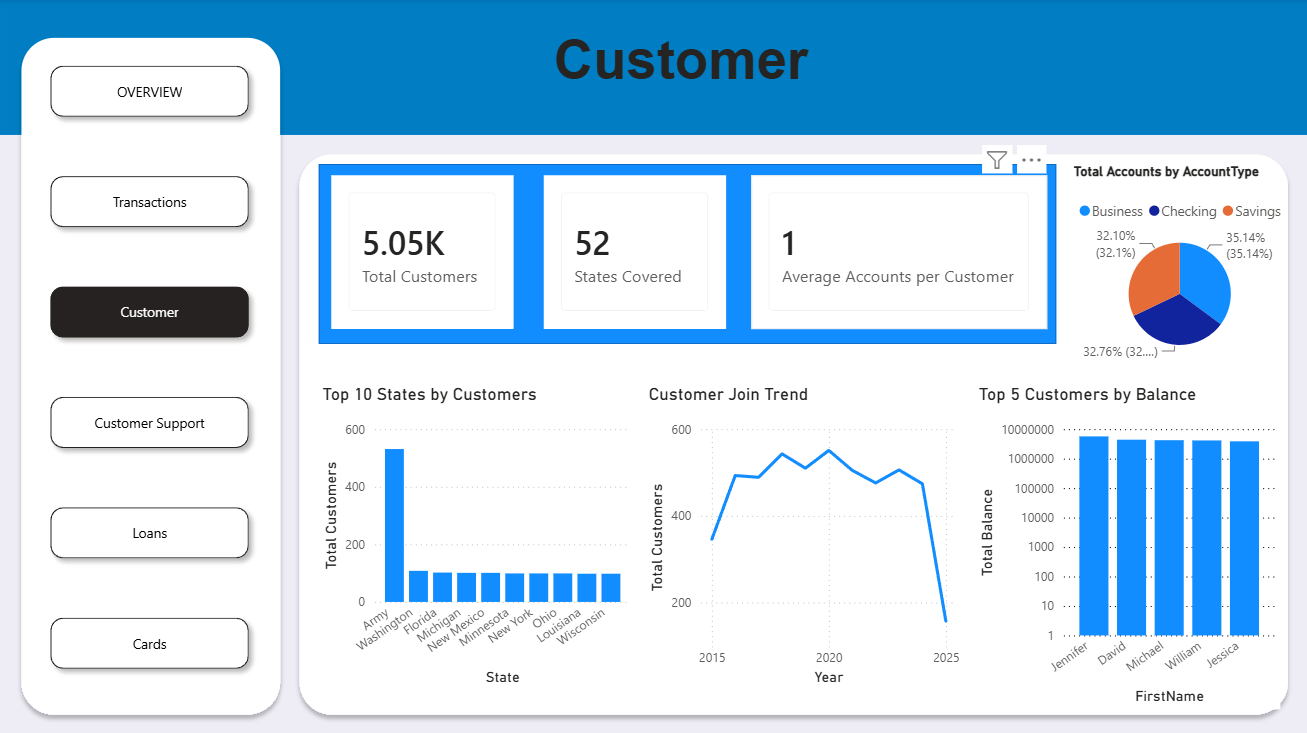

The dashboard page shown, as its layout file describes it:
{"tool":"powerbi","page":{"name":"Customer","canvas":[1280,720],"ordinal":2},"visuals":[{"type":"image","box":[0,0,1280.3,720.2],"z":0},{"type":"pageNavigator","box":[40.4,56.3,212.8,611.4],"z":1000},{"type":"textbox","box":[536.8,24.5,267.8,81.9],"z":2000},{"type":"shape","box":[311.5,161.2,721.5,176.1],"z":3000},{"type":"cardVisual","fields":{"Data":["customers.Total Customers"]},"box":[323.7,172.2,178.5,150.4],"z":4000},{"type":"cardVisual","fields":{"Data":["customers.States Covered"]},"box":[531.6,172.2,178.5,150.4],"z":5000},{"type":"cardVisual","fields":{"Data":["customers.Average Balance per Customer"]},"box":[734.6,172.2,289.8,150.4],"z":6000},{"type":"clusteredColumnChart","title":"Top 10 States by Customers","fields":{"Category":["customers.State"],"Y":["customers.Total Customers"]},"box":[310,376.2,311.2,300],"z":7000},{"type":"lineChart","title":"Customer Join Trend","fields":{"Category":["customers.JoinDate.Variation.Date Hierarchy.Year"],"Y":["customers.Total Customers"]},"box":[630,376.2,313.8,300],"z":8000},{"type":"pieChart","title":"Total Accounts by AccountType","fields":{"Category":["Accounts.AccountType"],"Y":["Accounts.Total Accounts"]},"box":[1045,161.2,217.5,198.8],"z":9000},{"type":"clusteredColumnChart","fields":{"Category":["customers.FirstName"],"Series":["Accounts.AccountType"],"Y":["Accounts.Total Balance"]},"box":[952.5,376.2,300,318.8],"z":10000}]}

Visuals, with their boxes in screenshot pixels (x1, y1, x2, y2), scaled from the page's 1280x720 canvas onto the 1307x733 screenshot:
image: detection(0, 0, 1306, 732)
pageNavigator: detection(41, 57, 259, 680)
textbox: detection(548, 25, 822, 108)
shape: detection(318, 164, 1055, 343)
cardVisual - customers.Total Customers: detection(331, 175, 513, 328)
cardVisual - customers.States Covered: detection(543, 175, 725, 328)
cardVisual - customers.Average Balance per Customer: detection(750, 175, 1046, 328)
"Top 10 States by Customers" clusteredColumnChart: detection(317, 383, 634, 688)
"Customer Join Trend" lineChart: detection(643, 383, 964, 688)
"Total Accounts by AccountType" pieChart: detection(1067, 164, 1289, 366)
clusteredColumnChart - customers.FirstName x Accounts.AccountType: detection(973, 383, 1279, 708)
